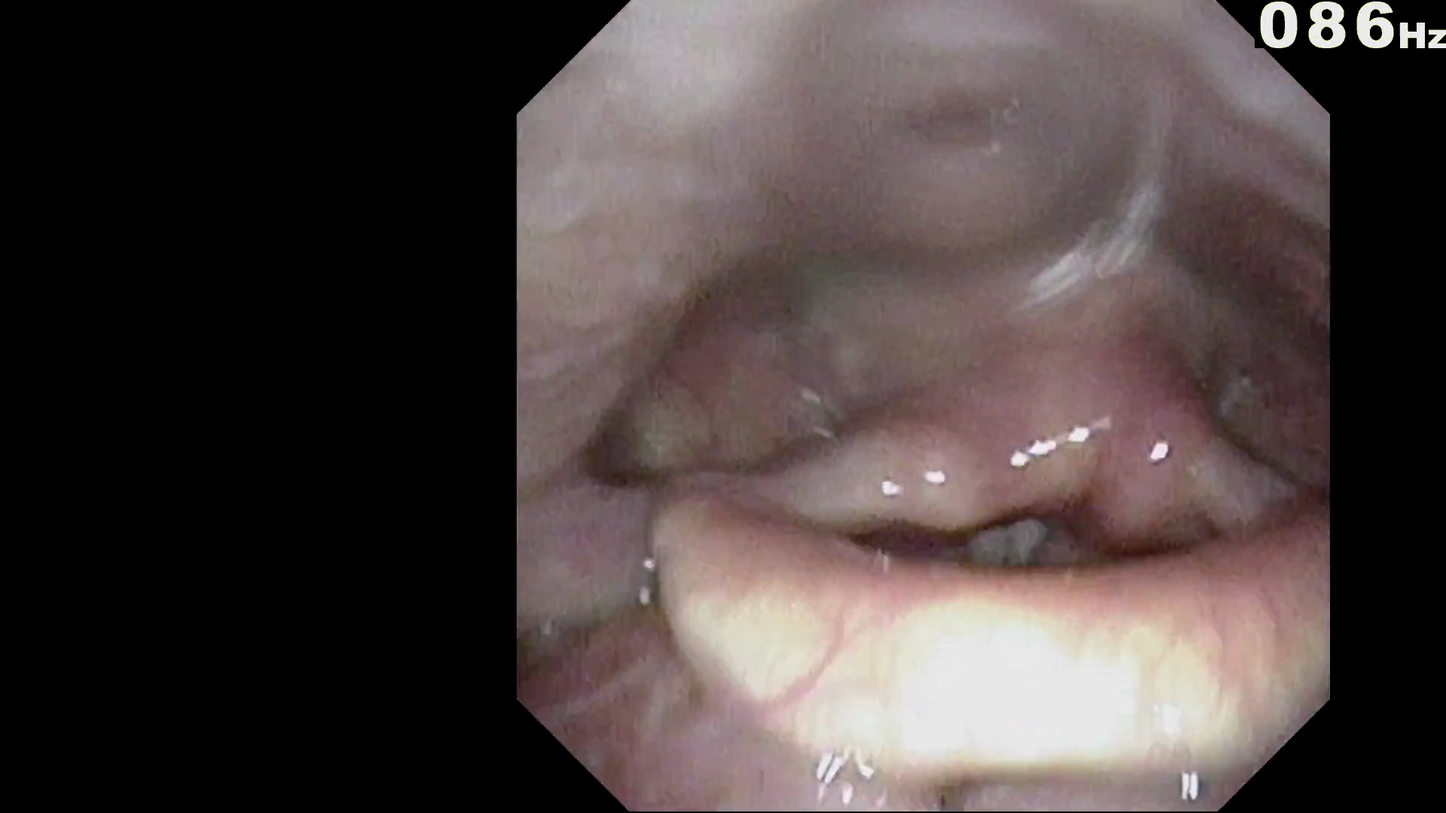epiglottis: (651, 514, 1271, 738)
